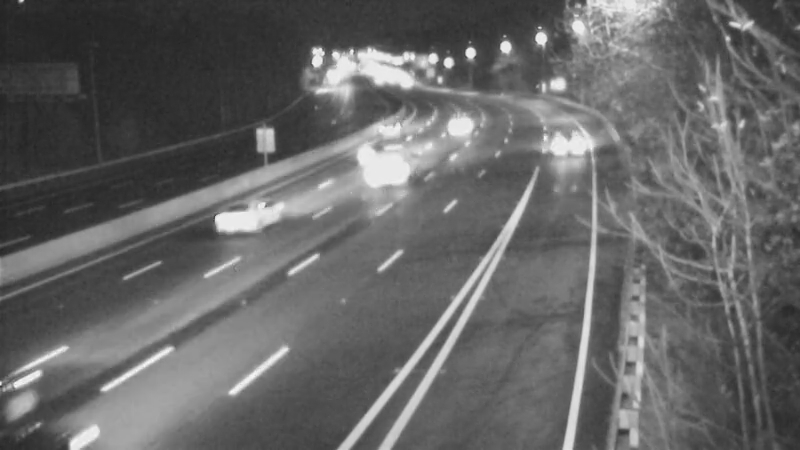vehicle: (1, 360, 105, 450), (340, 128, 420, 208), (199, 178, 279, 258), (435, 100, 485, 150), (367, 104, 417, 154), (535, 121, 585, 171)
